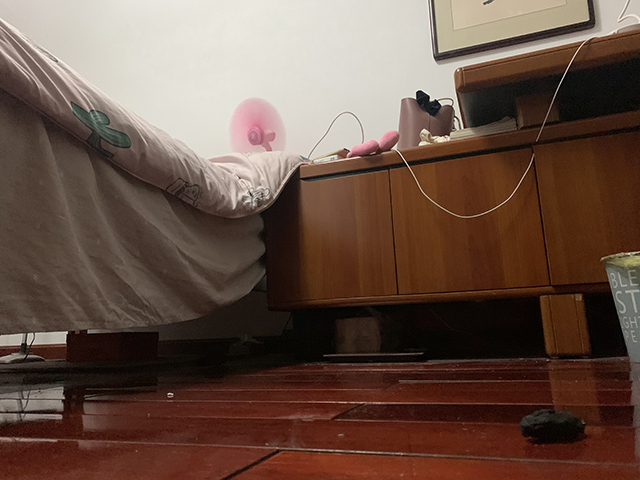bed: (1, 17, 311, 363)
feces: (520, 409, 586, 443)
table: (264, 28, 640, 365)
trashcan: (599, 248, 640, 364)
